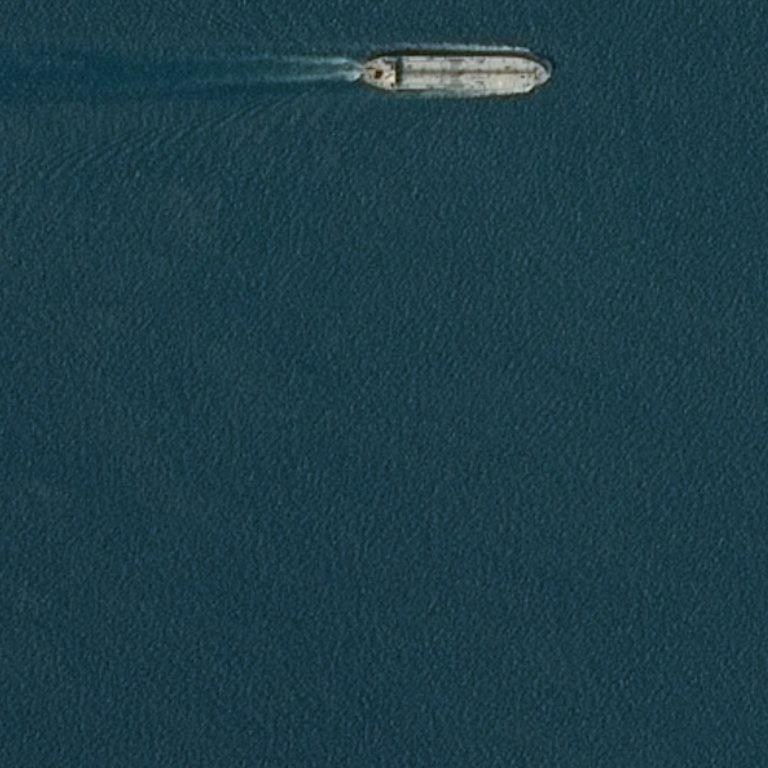ship: (359, 49, 554, 97), (542, 68, 552, 83), (365, 62, 374, 70), (360, 77, 370, 84)
